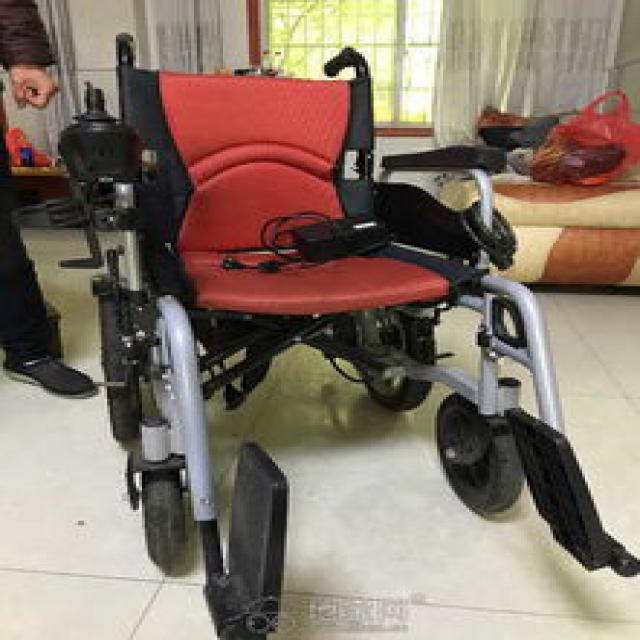wheelchairs: (74, 29, 623, 640)
